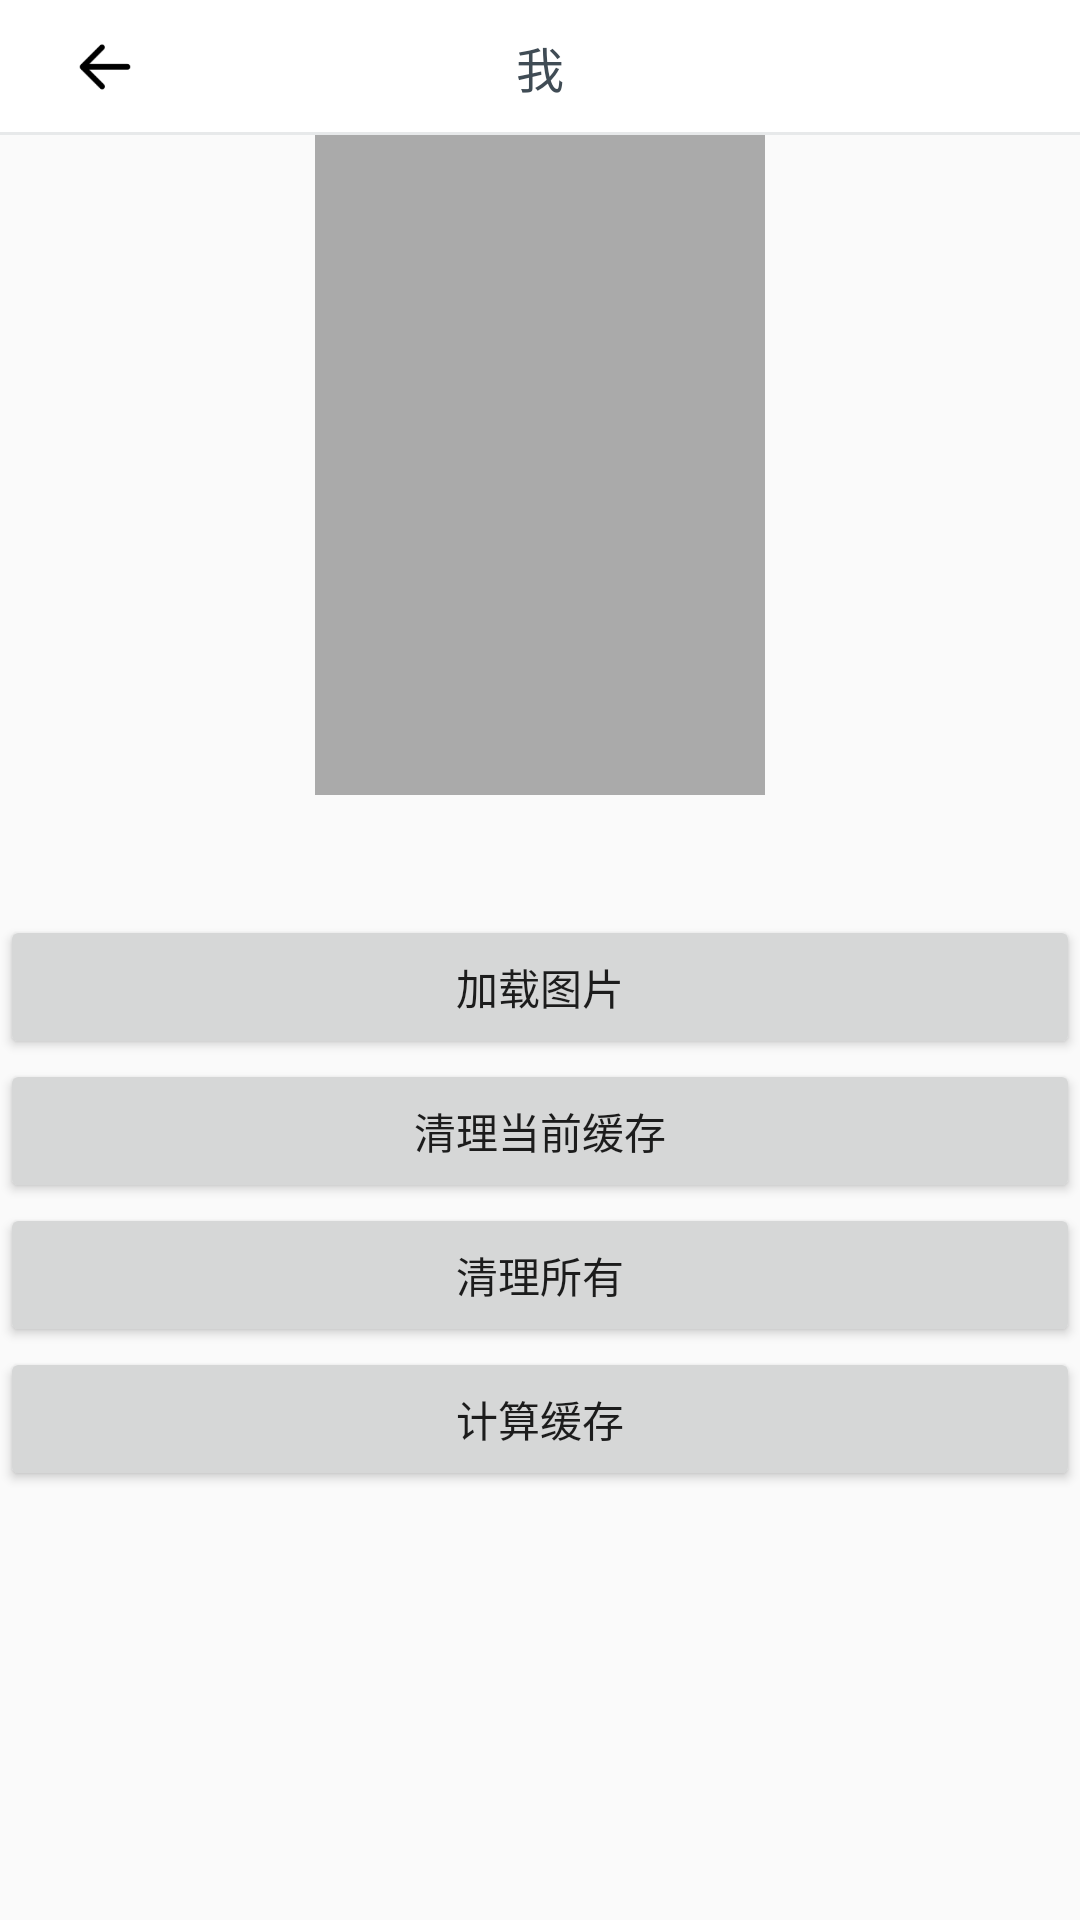

Icon click points for this 1080x1920 phone screenshot, format [x,y]:
return: [105,67]
